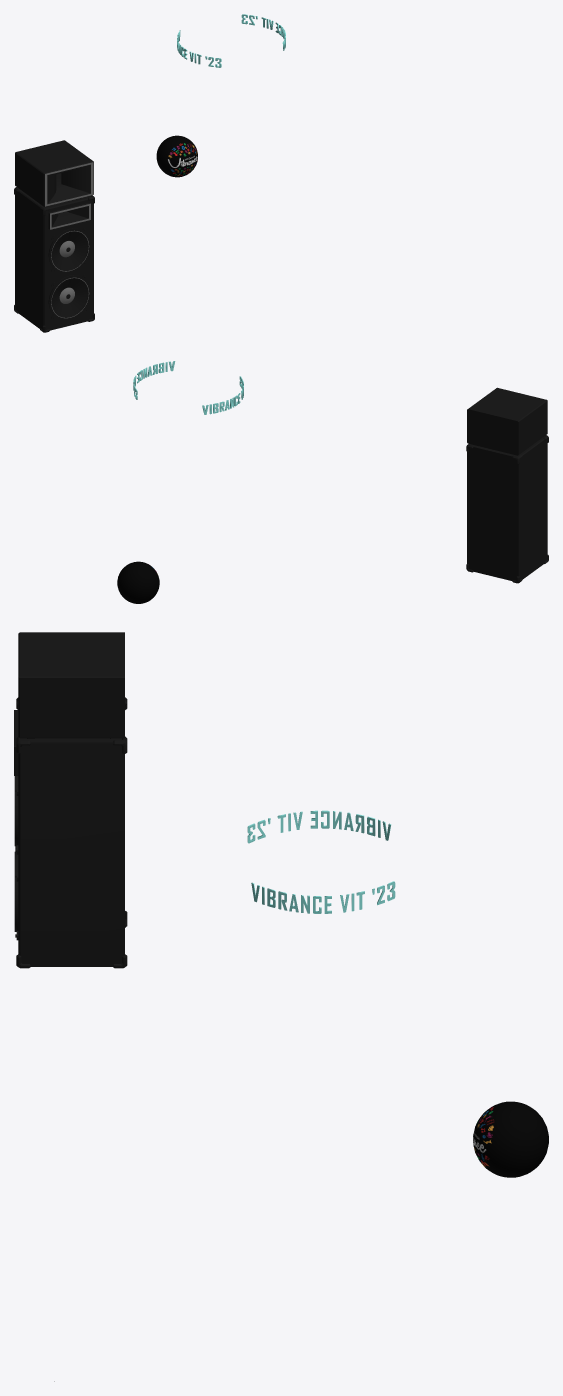
File: stage.glb
3 views of the same model, one above another, from view 1: azimuth 30°, elevation 25°; view 2: azimuth 150°, elevation 25°; view 3: azimuth 270°, elevation 25° (orthographic). The views are drawn at different scales.
Parts seen in each view (by area): view 1: speakerL, vibrancesphere, board_text; view 2: speakerL, vibrancesphere, board_text; view 3: speakerL, vibrancesphere, board_text.
Boxes of the visible parts, x1=… form: speakerL: x1=14, y1=140, x2=94, y2=332; vibrancesphere: x1=156, y1=135, x2=197, y2=177; board_text: x1=177, y1=14, x2=285, y2=67; speakerL: x1=466, y1=387, x2=548, y2=583; vibrancesphere: x1=117, y1=561, x2=159, y2=603; board_text: x1=133, y1=361, x2=243, y2=414; speakerL: x1=14, y1=632, x2=127, y2=968; vibrancesphere: x1=473, y1=1101, x2=548, y2=1177; board_text: x1=247, y1=810, x2=395, y2=913.
Size of what is drawn, in the model's own units: 41.7 by 13.62 by 20.47.
Materials: 4 (1 with a texture image).
